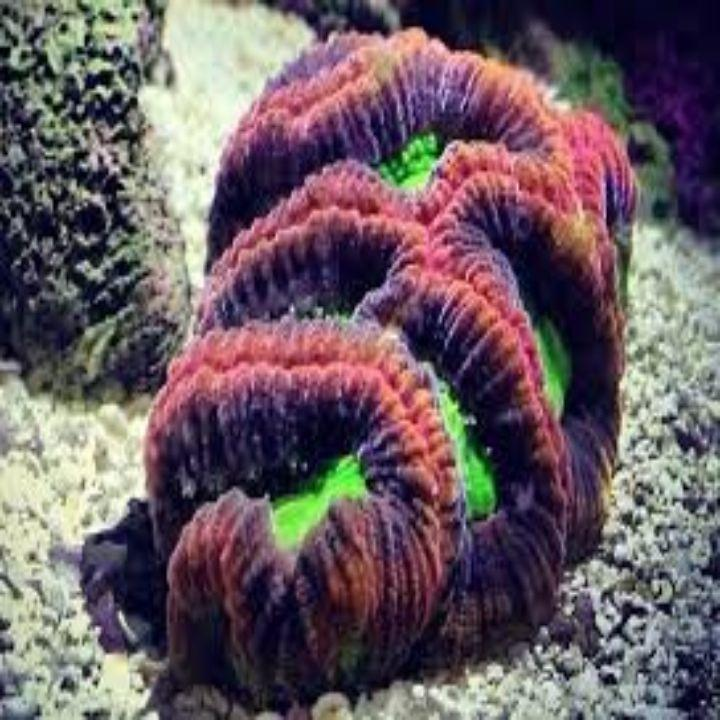Healthy Coral: (128, 57, 636, 684)
